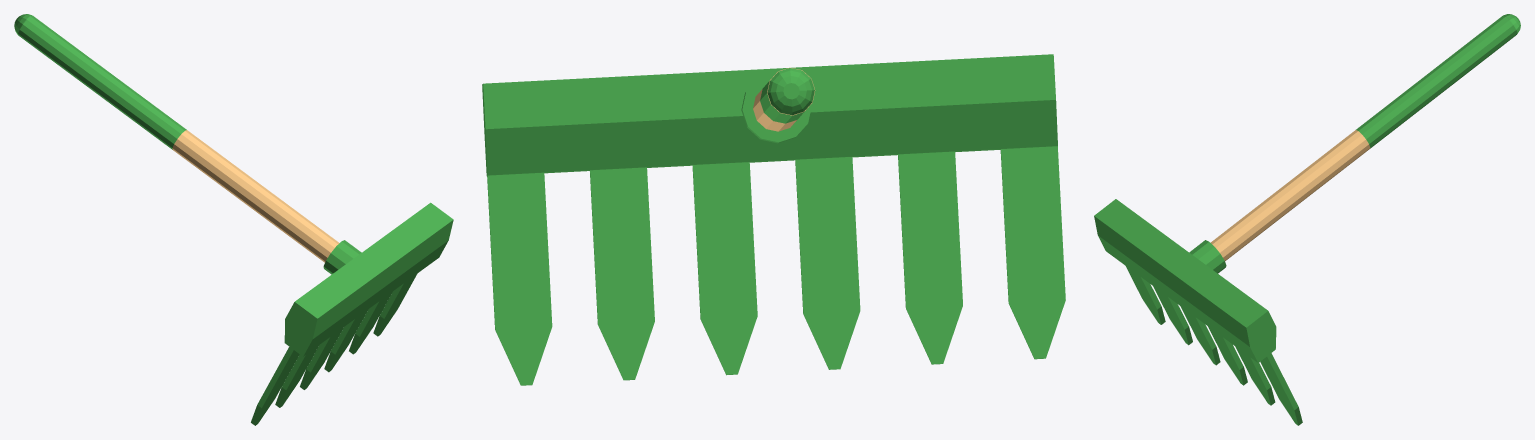
Rendered from Hand Rake.glb.
3 renders of one model, left to right at view 1: azimuth 30°, elevation 25°; view 2: azimuth 150°, elevation 25°; view 3: azimuth 270°, elevation 25°, orthographic. The views are drawn at different scales.
Visible parts, largest first — view 1: Node; view 2: Node; view 3: Node.
Boxes of the visible parts, box(x1,y1,x2,y2) form: Node: box(14, 14, 453, 425); Node: box(482, 54, 1065, 385); Node: box(1094, 14, 1520, 425).
Size of the model in its own units: 0.5982 by 0.567 by 0.7471.
